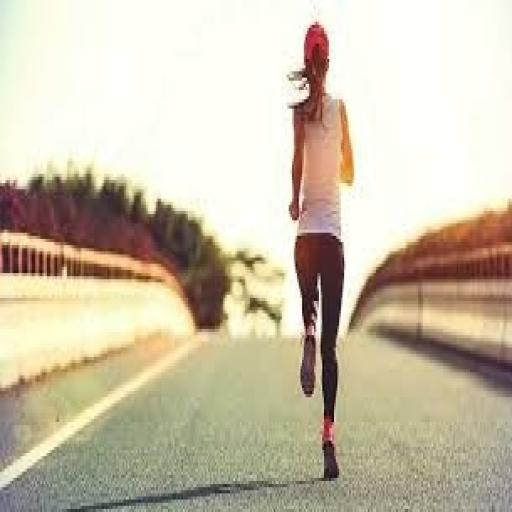running: (286, 19, 358, 484)
